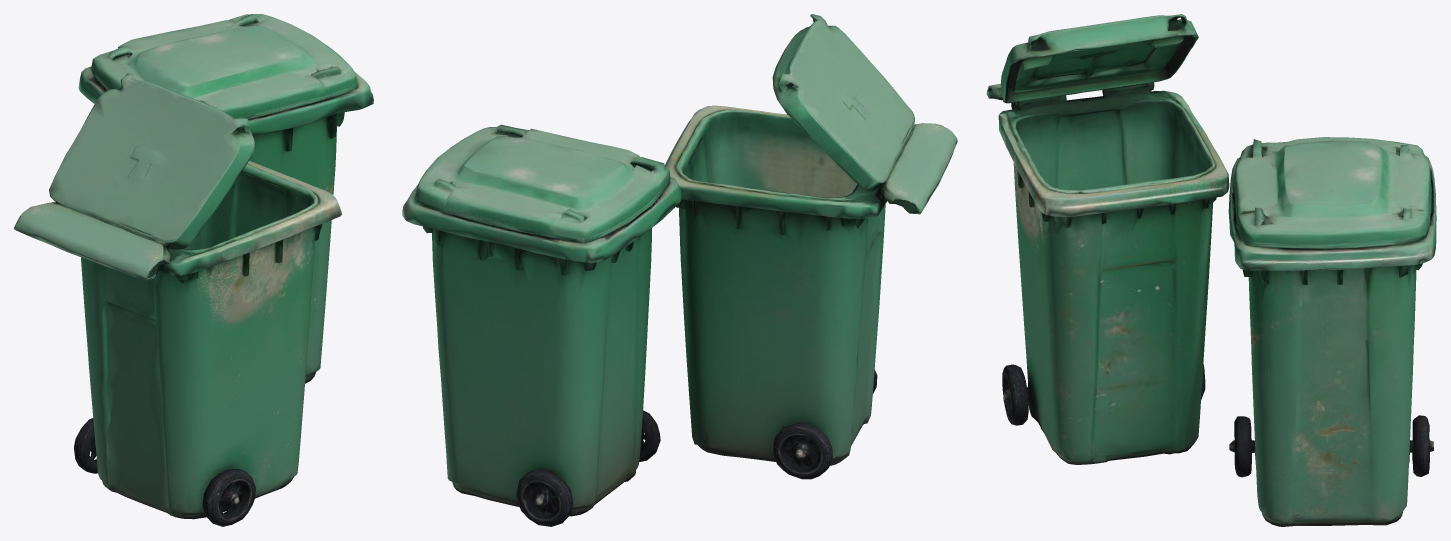
File: bins.glb
The picture shows the model from 3 angles, left to right: view 1: azimuth 30°, elevation 25°; view 2: azimuth 150°, elevation 25°; view 3: azimuth 270°, elevation 25°; orthographic projection.
Visible parts, largest first — view 1: tripo_node_a3aa2550-a469-4749-8a65-4211cf9c2b76; view 2: tripo_node_a3aa2550-a469-4749-8a65-4211cf9c2b76; view 3: tripo_node_a3aa2550-a469-4749-8a65-4211cf9c2b76.
Part boxes in pixels (bbox=[...]): tripo_node_a3aa2550-a469-4749-8a65-4211cf9c2b76: bbox=[14, 14, 373, 526]; tripo_node_a3aa2550-a469-4749-8a65-4211cf9c2b76: bbox=[402, 14, 957, 526]; tripo_node_a3aa2550-a469-4749-8a65-4211cf9c2b76: bbox=[986, 14, 1436, 526].
Bounding box in the file's own units: 1.07 × 1 × 1.02.
1 material, 1 textured.
